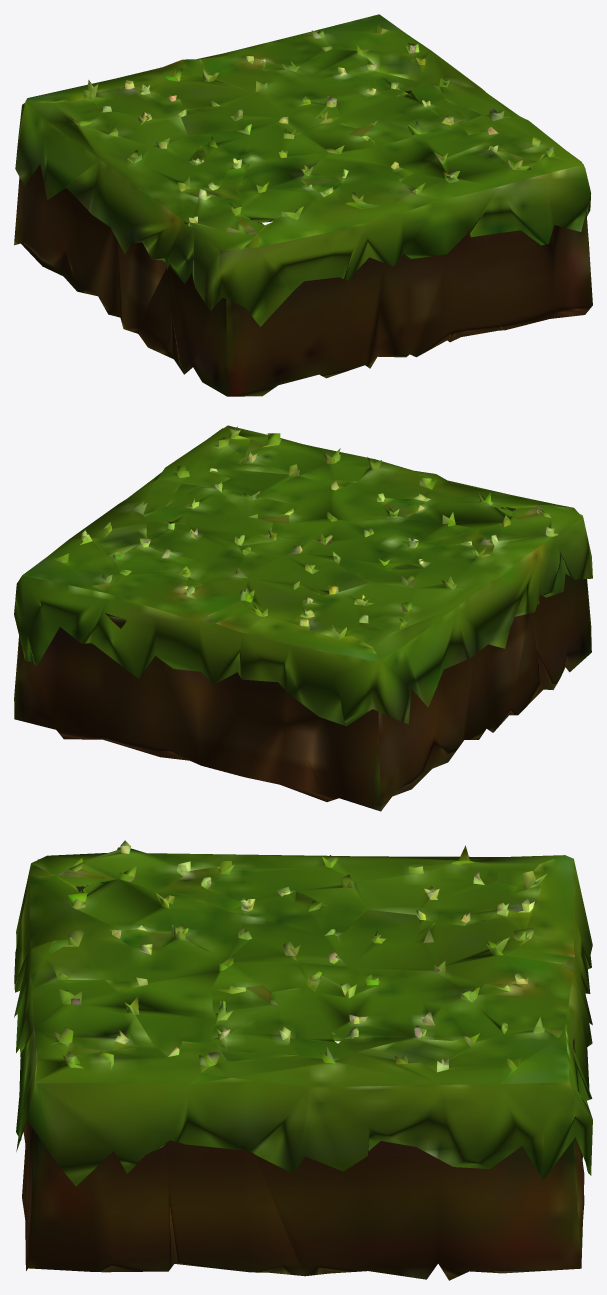
Rendered from tile_grass.glb.
3 renders of one model, top to bottom at view 1: azimuth 30°, elevation 25°; view 2: azimuth 150°, elevation 25°; view 3: azimuth 270°, elevation 25°, orthographic. The views are drawn at different scales.
Bounding box in the file's own units: 0.9921 × 0.4017 × 0.988.
1 material, 1 textured.
